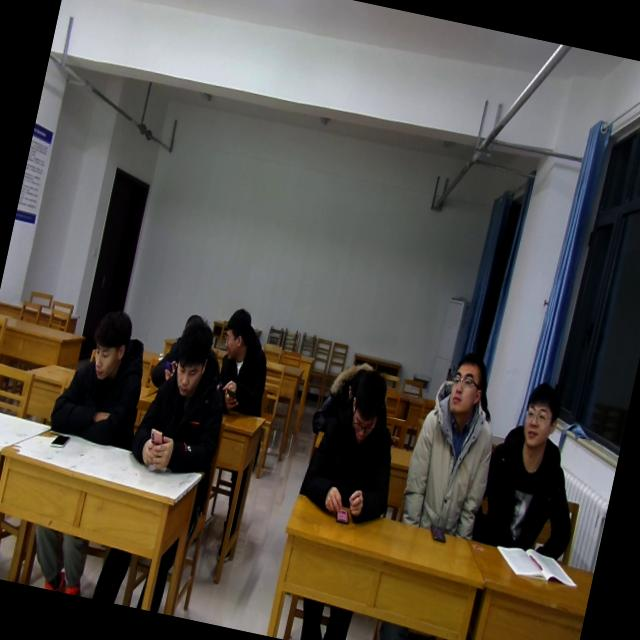bow: (308, 351, 376, 444)
down: (166, 308, 220, 401), (338, 363, 393, 452), (84, 304, 138, 384)
lookup: (514, 375, 566, 453), (440, 348, 490, 426)
sit: (470, 370, 603, 560), (394, 348, 512, 546), (126, 309, 244, 482), (296, 359, 414, 527), (46, 294, 162, 452), (203, 302, 283, 420)
